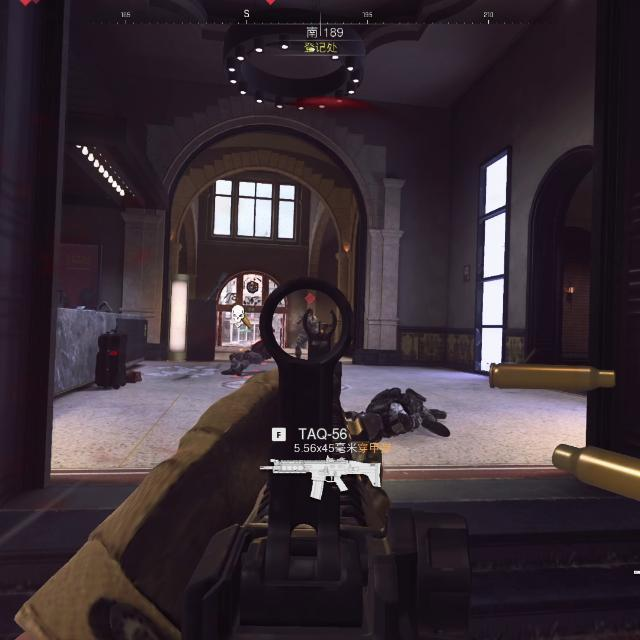MW2_body: (294, 294, 320, 357)
